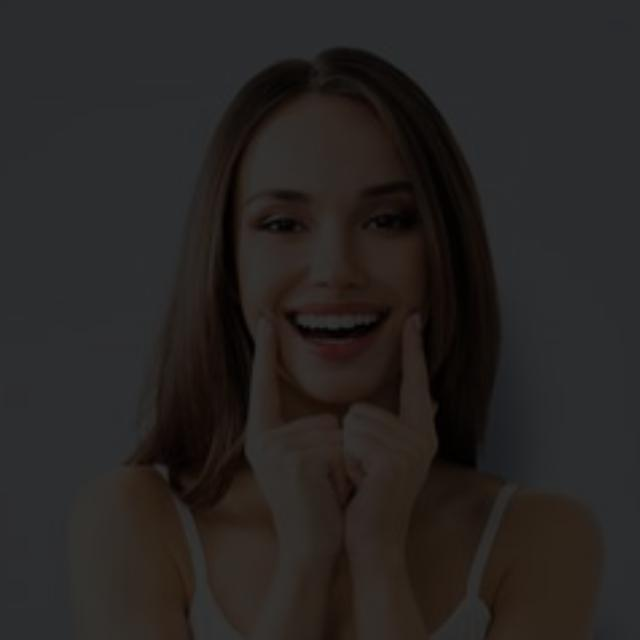Happy: (149, 101, 492, 436)
